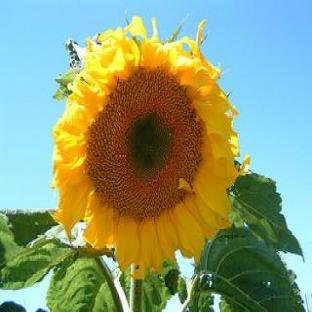sunflower: (48, 16, 250, 312)
